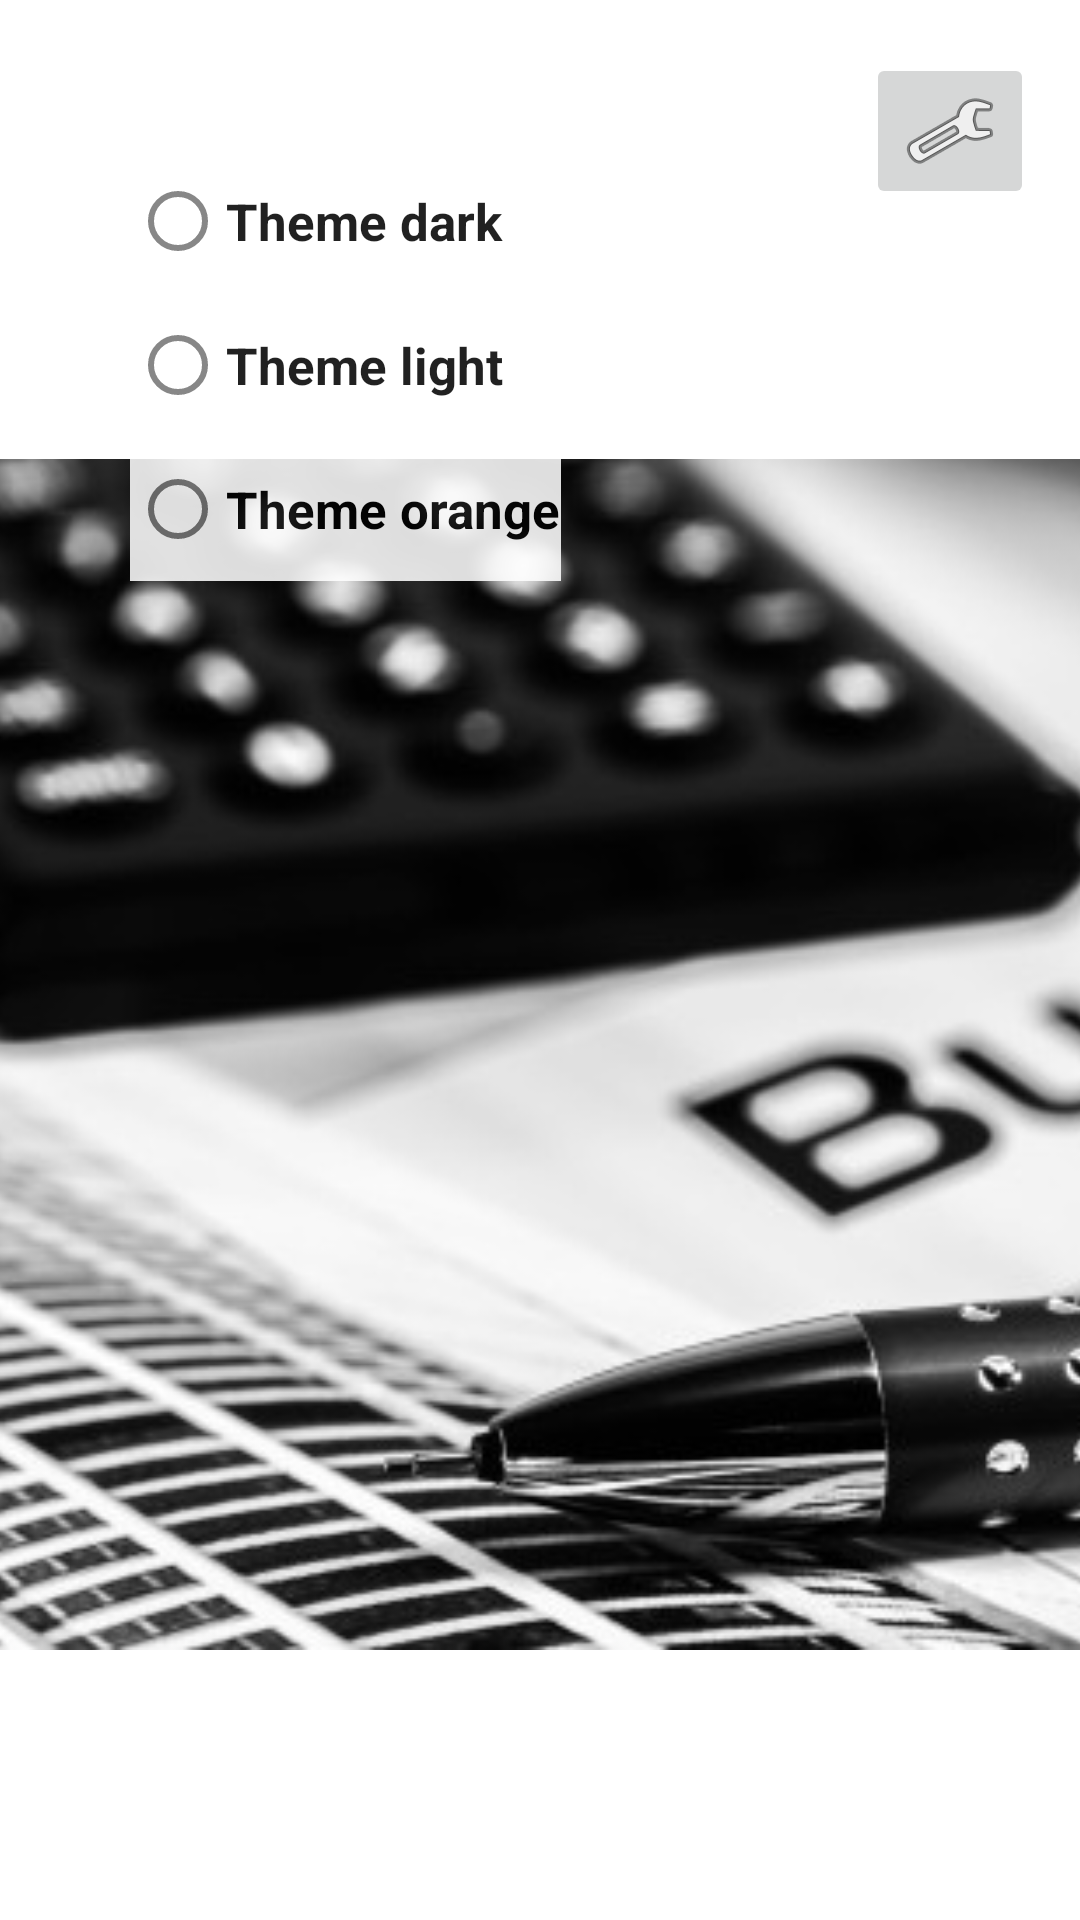

Screen size 1080*1920. Icon name, then its box in pixels as bbox=(x1, y1, x2, y2):
manage: bbox=(878, 71, 1022, 191)
